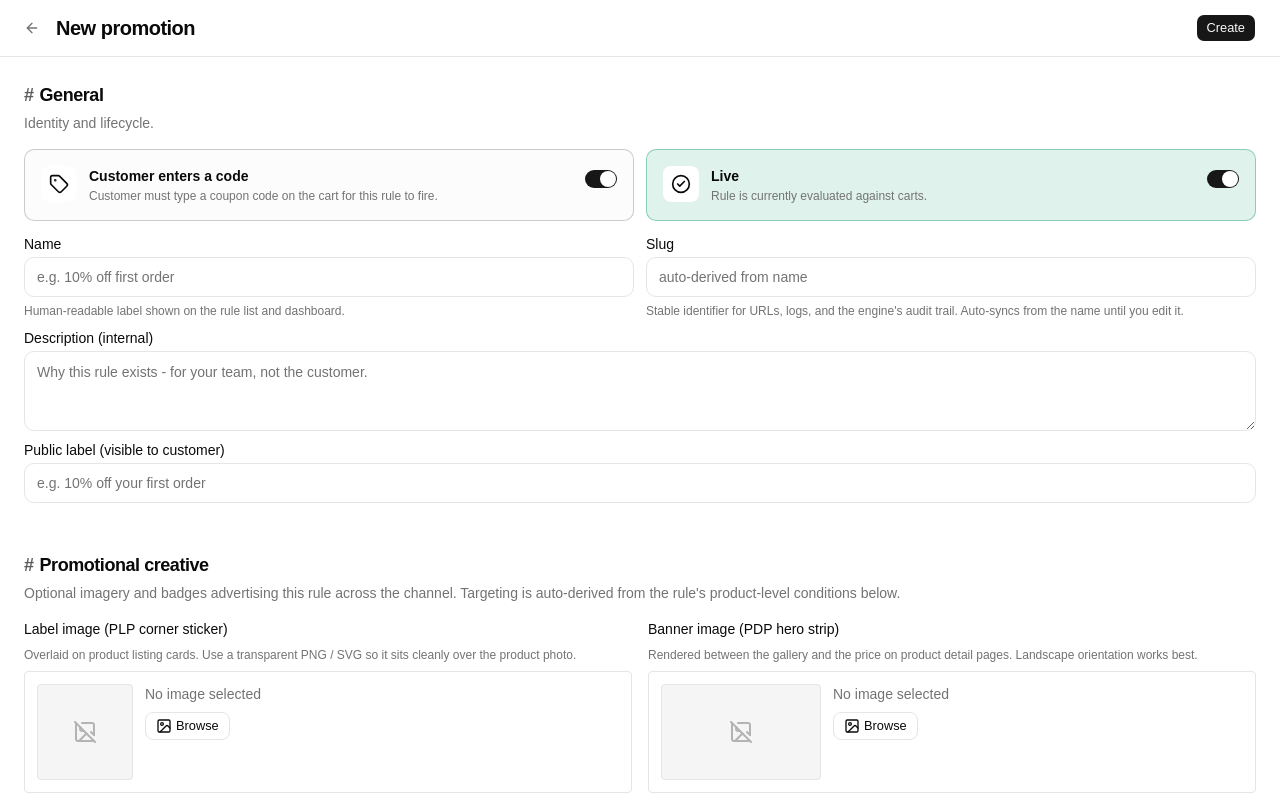
PromotionRuleForm › refuses an untyped condition before creating the rule
Type "Summer sale" into the field labelled "Name" at (329, 277), box [24,257,634,297]
(page scrolled)
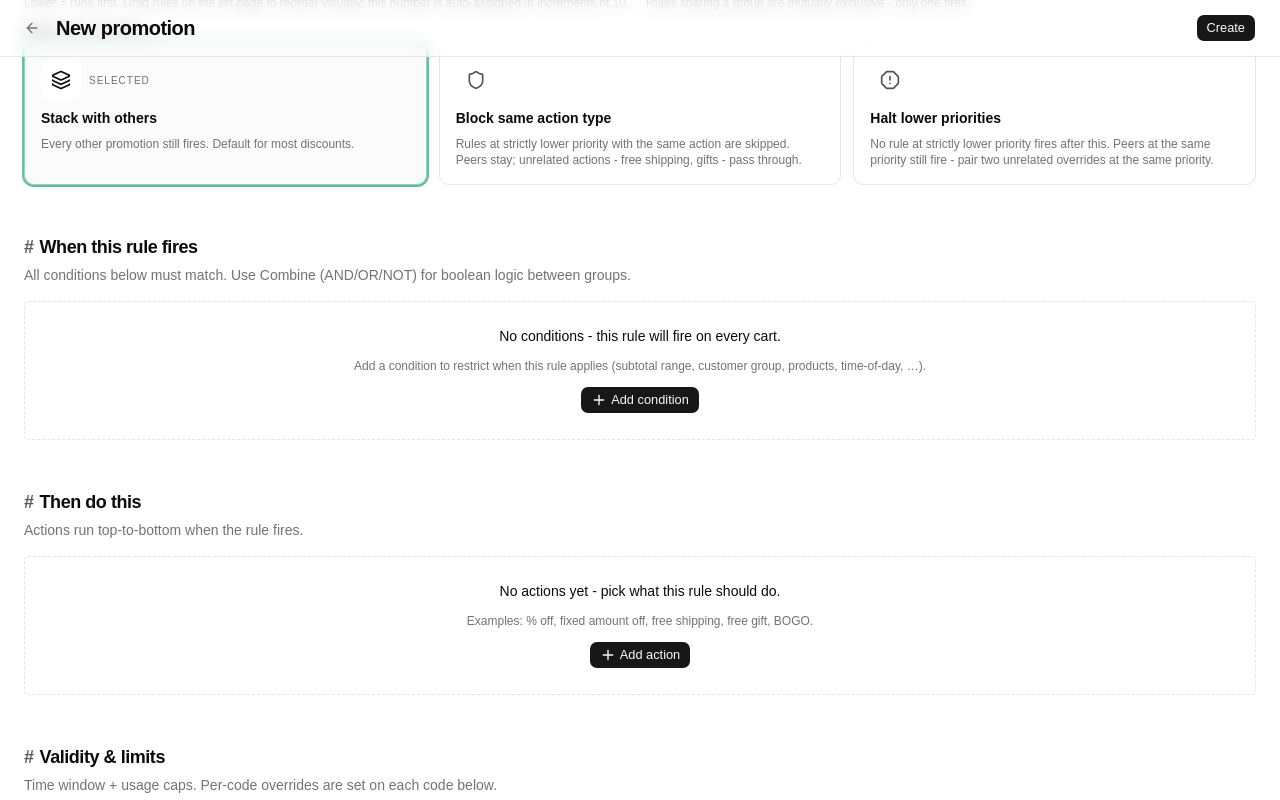
Click the button "Add condition" at (640, 400), box [580,386,700,414]
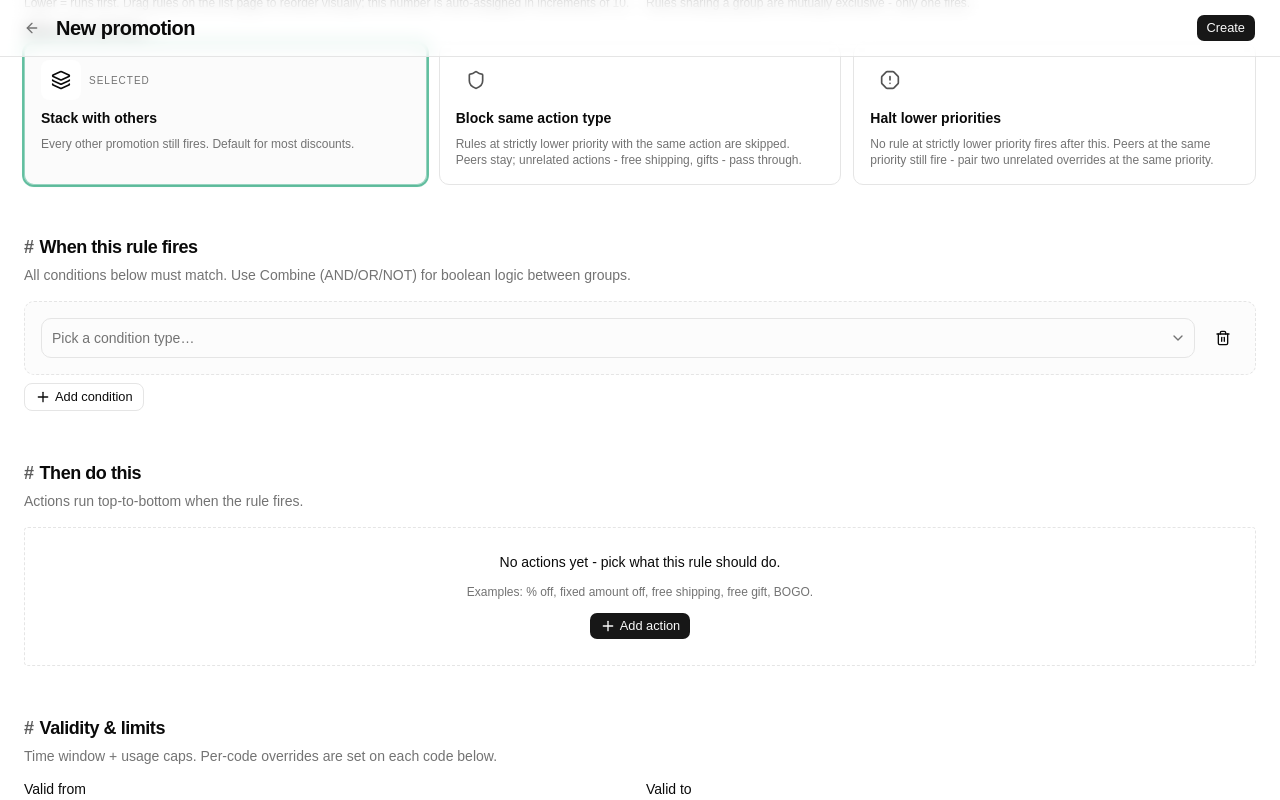
Click the button "Create" at (1226, 28), box [1196,14,1256,42]
(page scrolled)
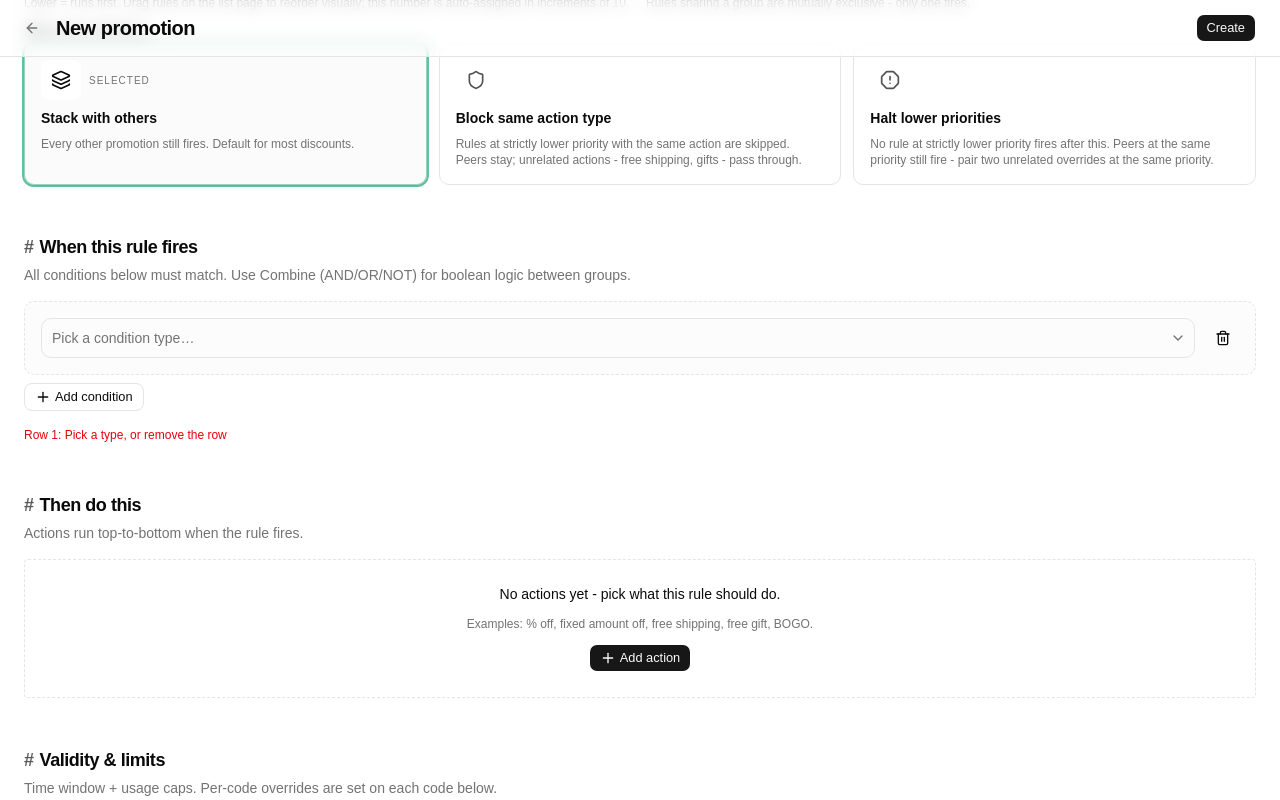
Now the text "Row 1: Pick a type, or remove the row" is shown, box [24,428,227,442]
